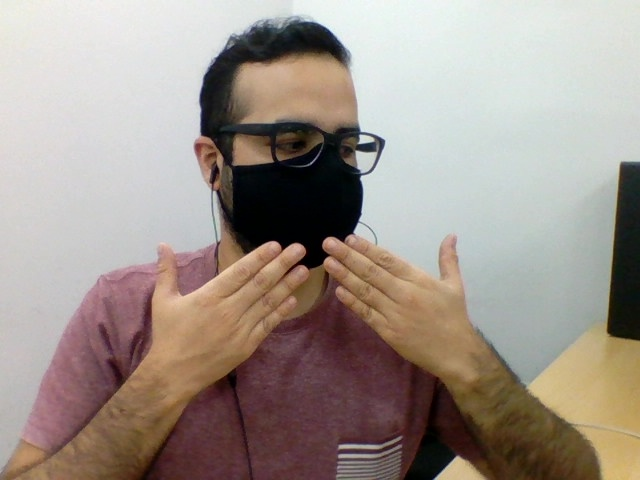ThankYou: (151, 232, 476, 394)
